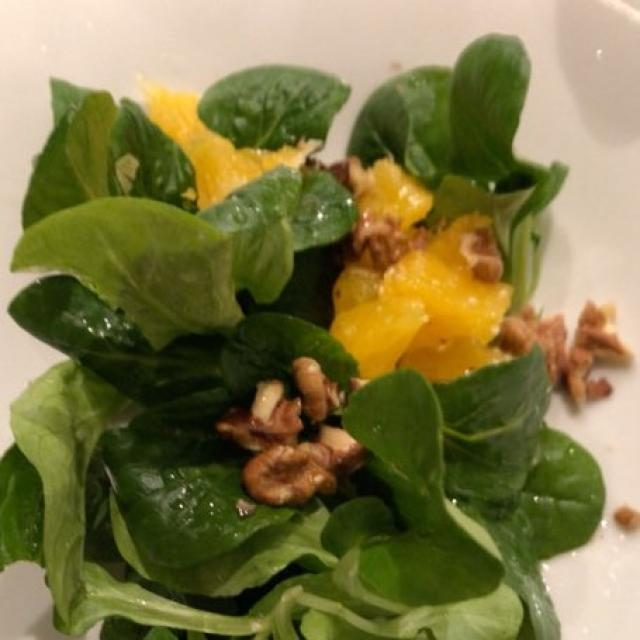orange: (148, 84, 529, 374)
salad-lambs-ear: (26, 51, 618, 636)
walnut: (223, 204, 620, 508)
